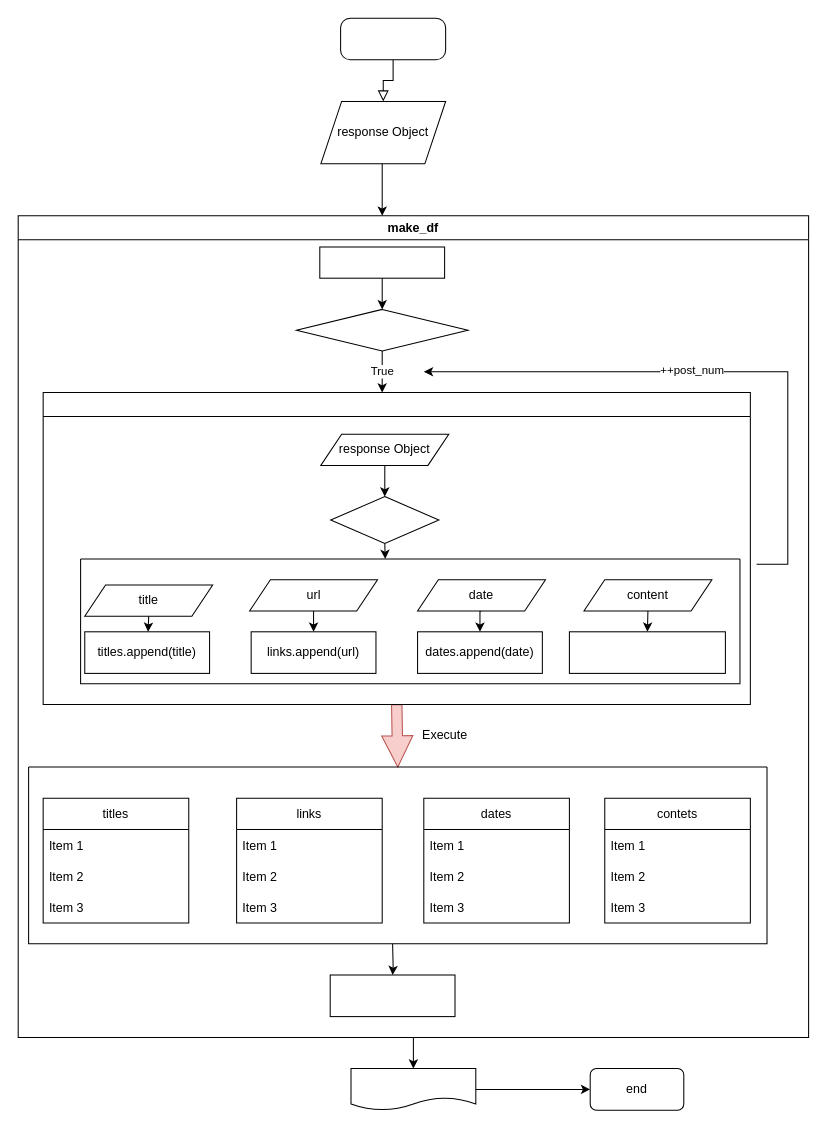
This 827x1128 diagram has some shape labels left out. The shapes that lost their labels are listed below. From the top down, each one's box as (x1, y1, x2, y2) in pixels, then its label:
(340, 17, 446, 60): request URL
(319, 246, 445, 278): post_num = start
(295, 308, 468, 351): if post_num < end
(330, 496, 439, 543): error_check
(42, 392, 750, 705): make_raw_data
(568, 631, 725, 673): contents.append(content)
(329, 974, 455, 1017): raw_data
(350, 1068, 476, 1110): pd.DataFrame
